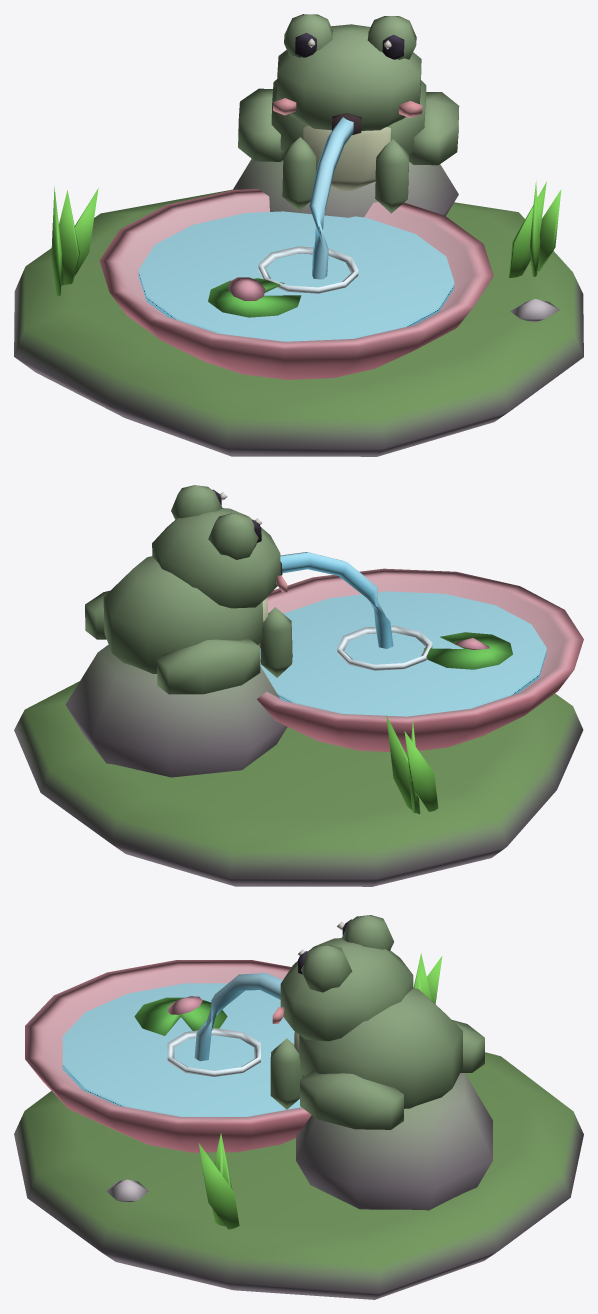
File: furn-frogFountain.glb
The picture shows the model from 3 angles, top to bottom: view 1: azimuth 30°, elevation 25°; view 2: azimuth 150°, elevation 25°; view 3: azimuth 270°, elevation 25°; orthographic projection. The views are drawn at different scales.
Visible parts, largest first — view 1: furn-frogFountain; view 2: furn-frogFountain; view 3: furn-frogFountain.
Boxes of the visible parts, x1,y1,x2,y2 form: furn-frogFountain: (14,14,583,456); furn-frogFountain: (14,485,583,886); furn-frogFountain: (14,915,583,1299).
Bounding box in the file's own units: 0.4357 × 0.2368 × 0.4272.
